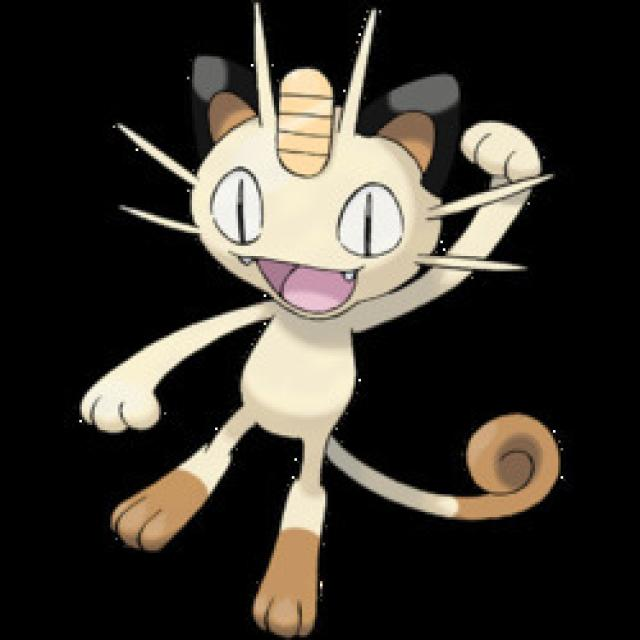Meowth: (123, 42, 524, 556)
